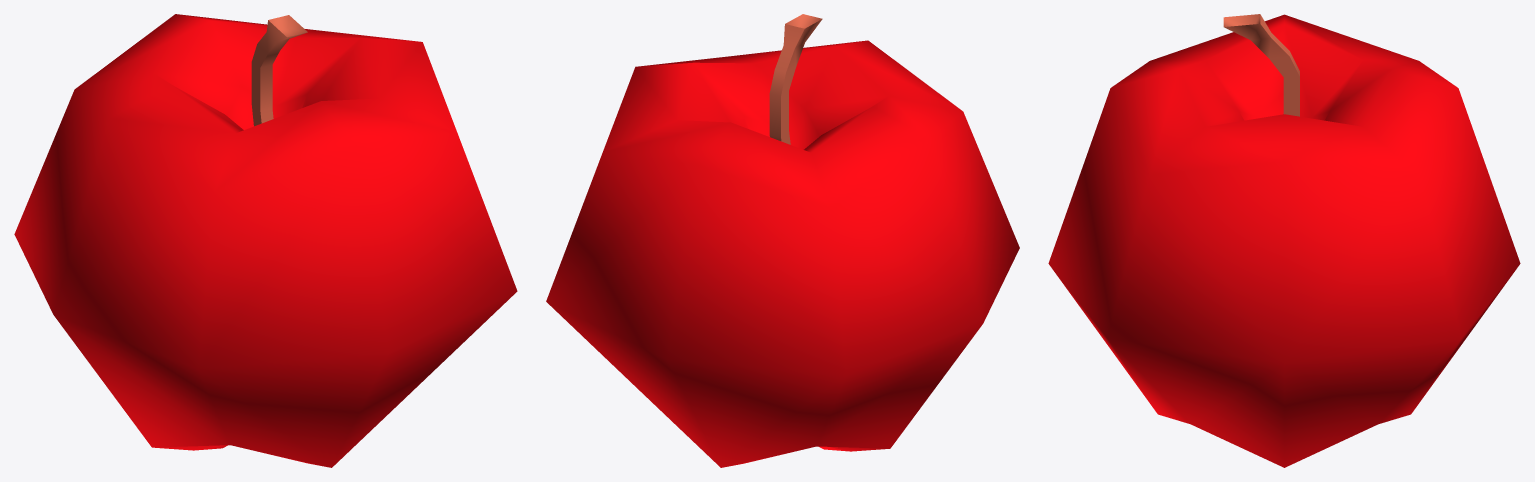
Rendered from red_apple.gltf.
The picture shows the model from 3 angles, left to right: view 1: azimuth 30°, elevation 25°; view 2: azimuth 150°, elevation 25°; view 3: azimuth 270°, elevation 25°; orthographic projection. The views are drawn at different scales.
Parts seen in each view (by area): view 1: Subdivision_Surface_2, Cube; view 2: Subdivision_Surface_2, Cube; view 3: Subdivision_Surface_2, Cube.
Boxes of the visible parts, x1=… form: Subdivision_Surface_2: x1=14, y1=14, x2=517, y2=467; Cube: x1=251, y1=15, x2=307, y2=126; Subdivision_Surface_2: x1=546, y1=40, x2=1019, y2=467; Cube: x1=769, y1=14, x2=822, y2=144; Subdivision_Surface_2: x1=1048, y1=14, x2=1520, y2=467; Cube: x1=1223, y1=14, x2=1299, y2=116.
Size of the model in its own units: 2.8 by 2.7 by 2.8.
